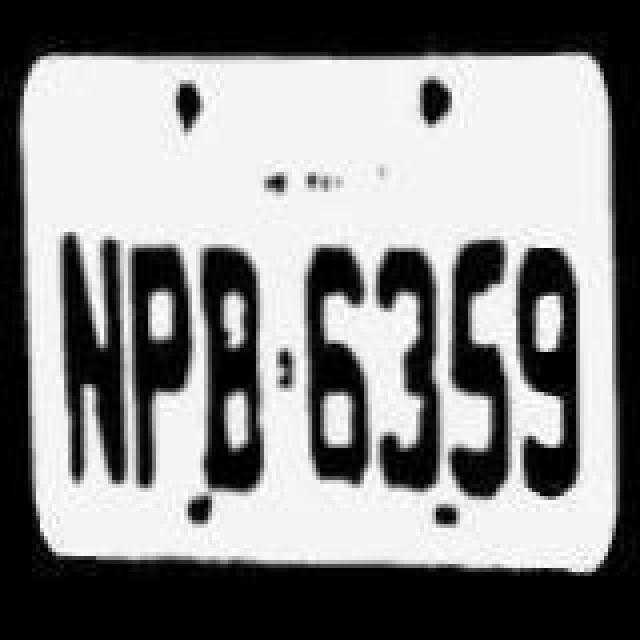3: (370, 242, 450, 494)
5: (442, 240, 514, 504)
6: (306, 238, 378, 502)
9: (512, 236, 588, 508)
B: (198, 248, 278, 496)
N: (50, 208, 130, 488)
P: (130, 220, 202, 488)
